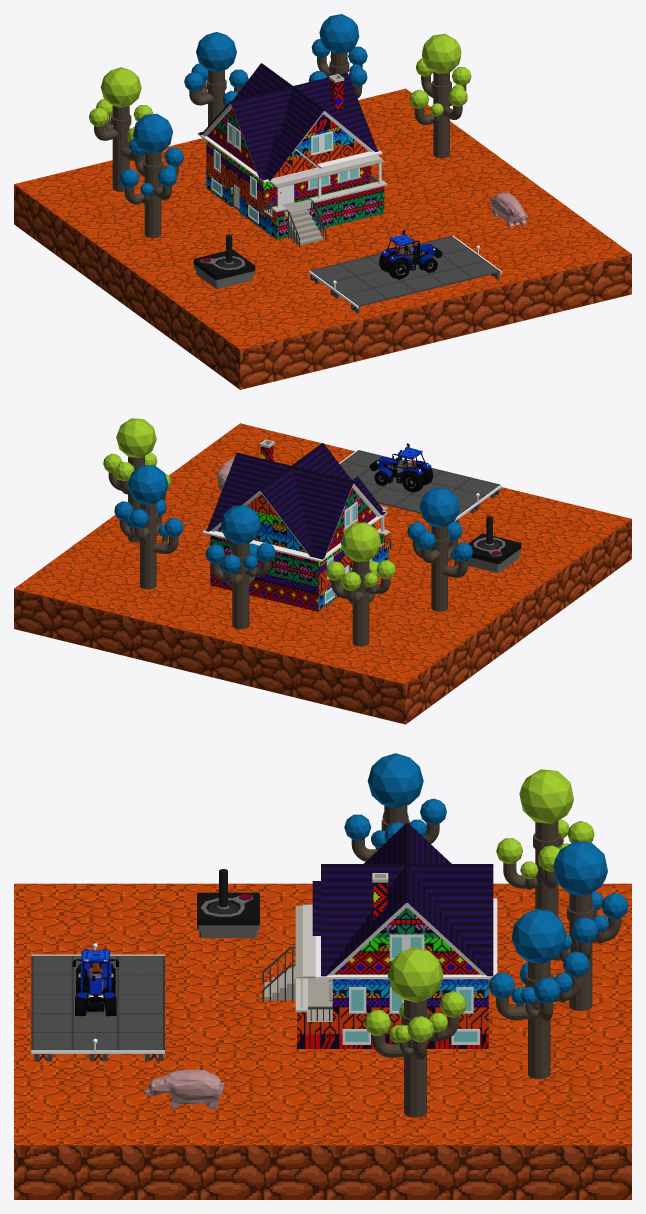
3 renders of one model, top to bottom at view 1: azimuth 30°, elevation 25°; view 2: azimuth 150°, elevation 25°; view 3: azimuth 270°, elevation 25°, orthographic. The views are drawn at different scales.
Visible parts, largest first — view 1: Cube.001, Cube.966, OBJRANDOM_JOYSTICK, VEHICLES_TRACTOR, ANIMAL_HIPOPOTAMO; view 2: Cube.001, Cube.966, VEHICLES_TRACTOR, OBJRANDOM_JOYSTICK; view 3: Cube.001, Cube.966, OBJRANDOM_JOYSTICK, VEHICLES_TRACTOR, ANIMAL_HIPOPOTAMO.
Boxes of the visible parts, x1,y1,x2,y2 form: Cube.001: (14,14,631,389); Cube.966: (197,63,387,246); OBJRANDOM_JOYSTICK: (193,234,255,288); VEHICLES_TRACTOR: (379,230,442,279); ANIMAL_HIPOPOTAMO: (490,192,527,226); Cube.001: (14,418,631,724); Cube.966: (202,439,391,611); VEHICLES_TRACTOR: (369,443,432,492); OBJRANDOM_JOYSTICK: (468,516,521,572); Cube.001: (14,753,631,1199); Cube.966: (262,823,497,1048); OBJRANDOM_JOYSTICK: (197,869,259,937); VEHICLES_TRACTOR: (72,949,118,1016); ANIMAL_HIPOPOTAMO: (144,1069,224,1108).
Size of the model in its own units: 4000 by 1664 by 4000.
Materials: 44 (8 with a texture image).
